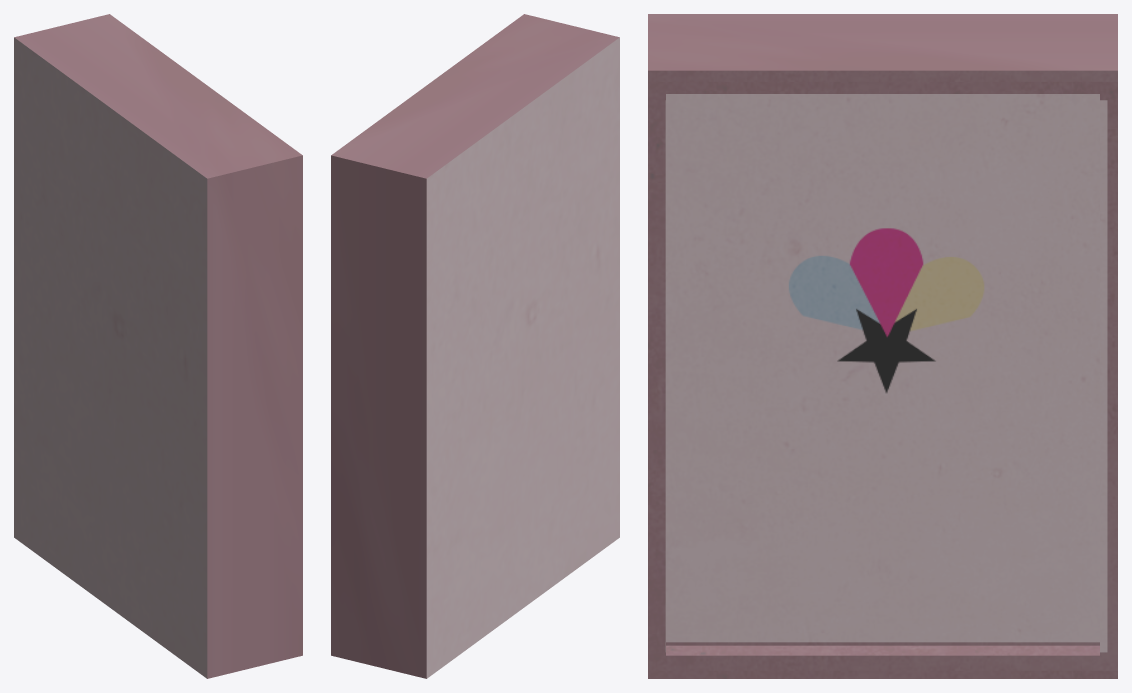
Rendered from beegdoor.fbx.
3 renders of one model, left to right at view 1: azimuth 30°, elevation 25°; view 2: azimuth 150°, elevation 25°; view 3: azimuth 270°, elevation 25°, orthographic. The views are drawn at different scales.
Visible parts, largest first — view 1: Door; view 2: Door; view 3: Door.
Boxes of the visible parts, x1,y1,x2,y2 form: Door: (14, 14, 302, 678); Door: (331, 14, 619, 678); Door: (648, 14, 1117, 678).
Bounding box in the file's own units: 102 × 512 × 359.
Materials: 1 (1 with a texture image).
